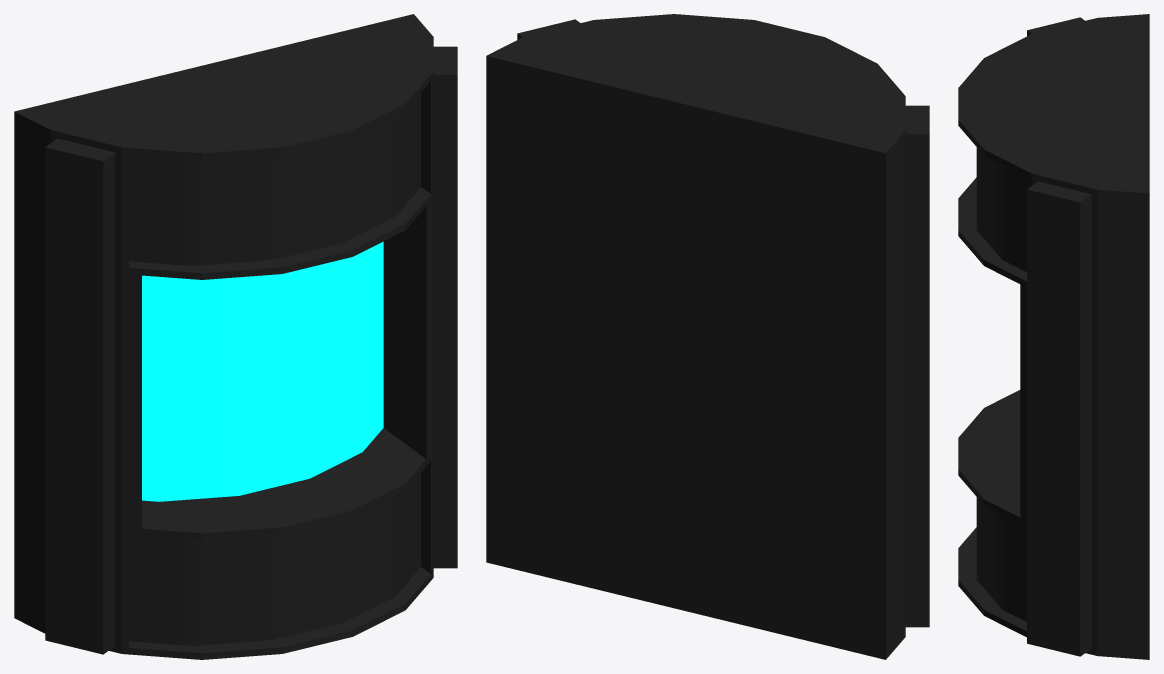
The model's file is lampe.fbx.
3 renders of one model, left to right at view 1: azimuth 30°, elevation 25°; view 2: azimuth 150°, elevation 25°; view 3: azimuth 270°, elevation 25°, orthographic. The views are drawn at different scales.
Parts seen in each view (by area): view 1: Cylinder001; view 2: Cylinder001; view 3: Cylinder001.
Boxes of the visible parts, bbox=[...] form: Cylinder001: bbox=[14, 14, 457, 659]; Cylinder001: bbox=[486, 14, 929, 659]; Cylinder001: bbox=[958, 14, 1149, 659].
Size of the model in its own units: 5.55 by 6.52 by 2.42.
